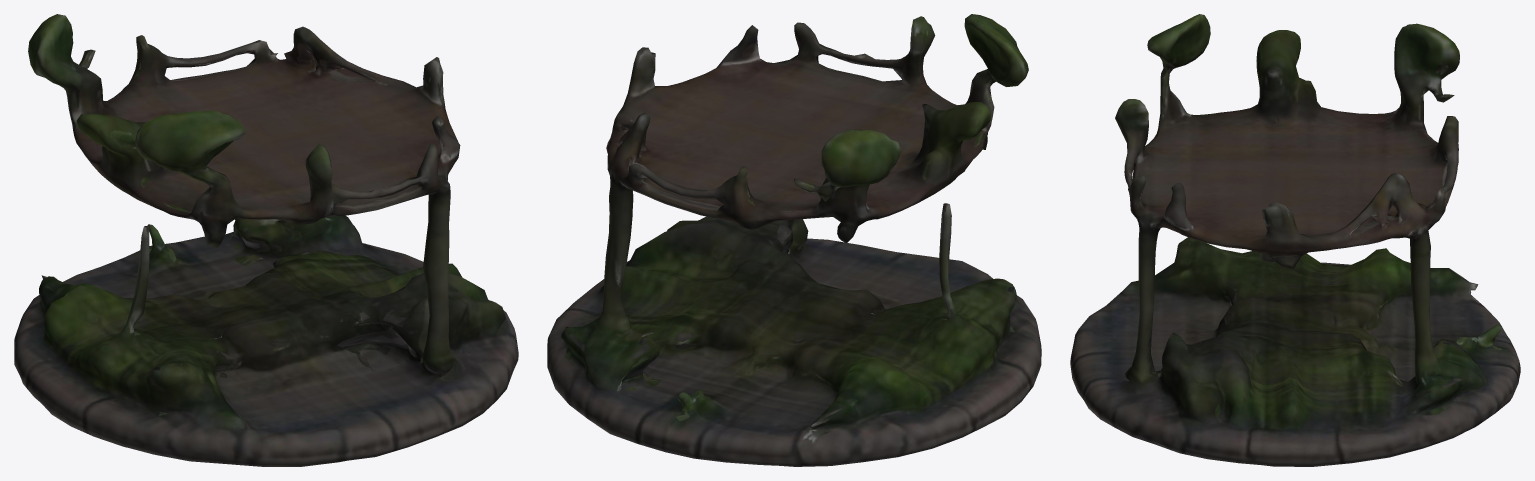
File: 54e9fbd8e359_96d305ae1137_miniature_floating_.glb
3 views of the same model, side by side, from view 1: azimuth 30°, elevation 25°; view 2: azimuth 150°, elevation 25°; view 3: azimuth 270°, elevation 25° (orthographic). The views are drawn at different scales.
Visible parts, largest first — view 1: mesh; view 2: mesh; view 3: mesh.
Part boxes in pixels (<box>): mesh: <box>14,14,518,466</box>; mesh: <box>547,14,1041,466</box>; mesh: <box>1070,14,1520,466</box>.
Size of the model in its own units: 0.9871 by 0.7206 by 0.9986.
Materials: 1 (1 with a texture image).
